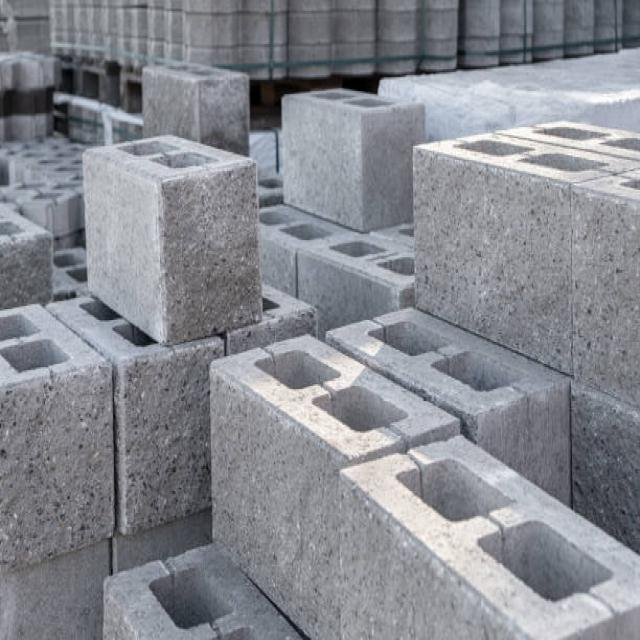Concrete: (207, 311, 640, 640), (411, 119, 640, 557), (83, 136, 266, 347), (98, 329, 262, 540), (380, 47, 640, 144), (282, 89, 429, 234), (259, 204, 412, 334), (141, 63, 251, 157)
